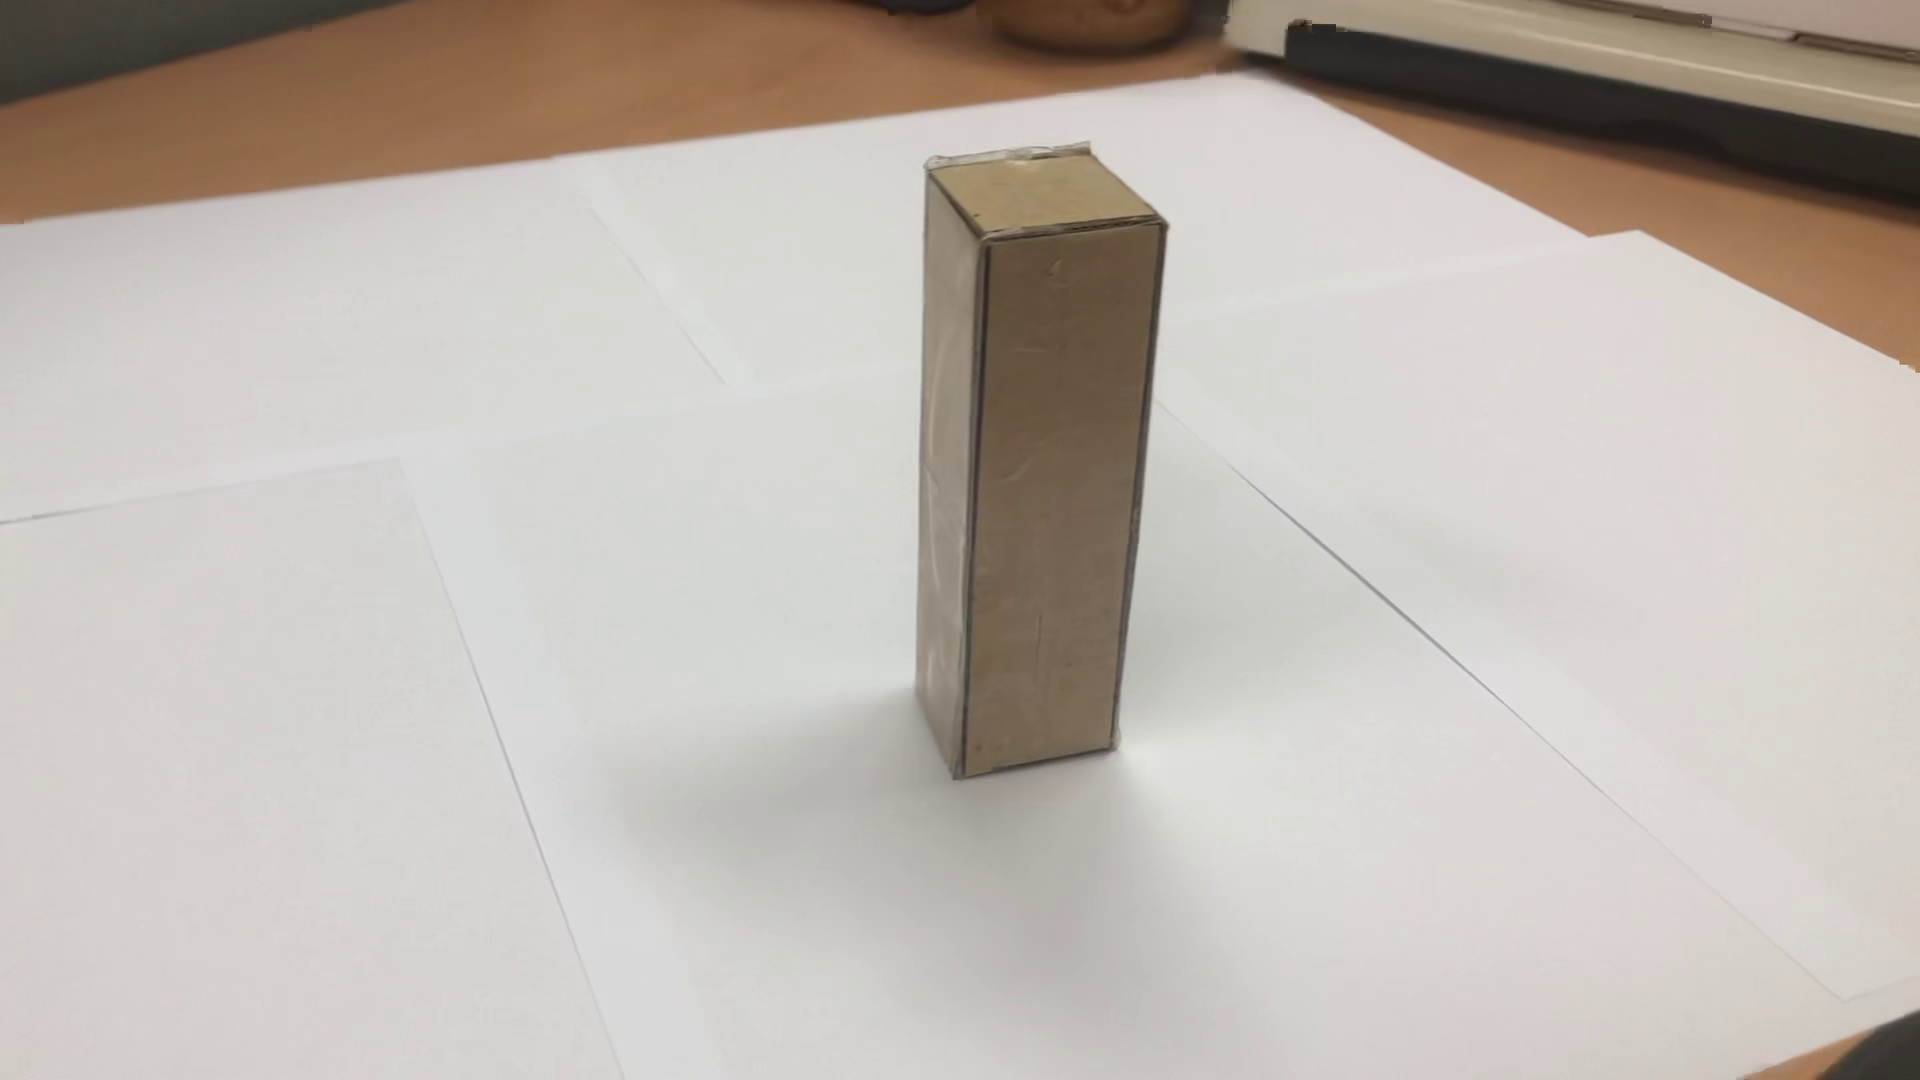box: (897, 109, 1188, 802)
